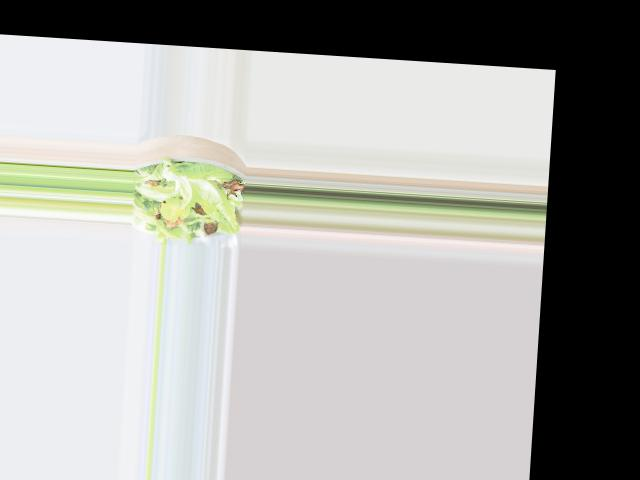lettuce: (136, 158, 235, 242)
